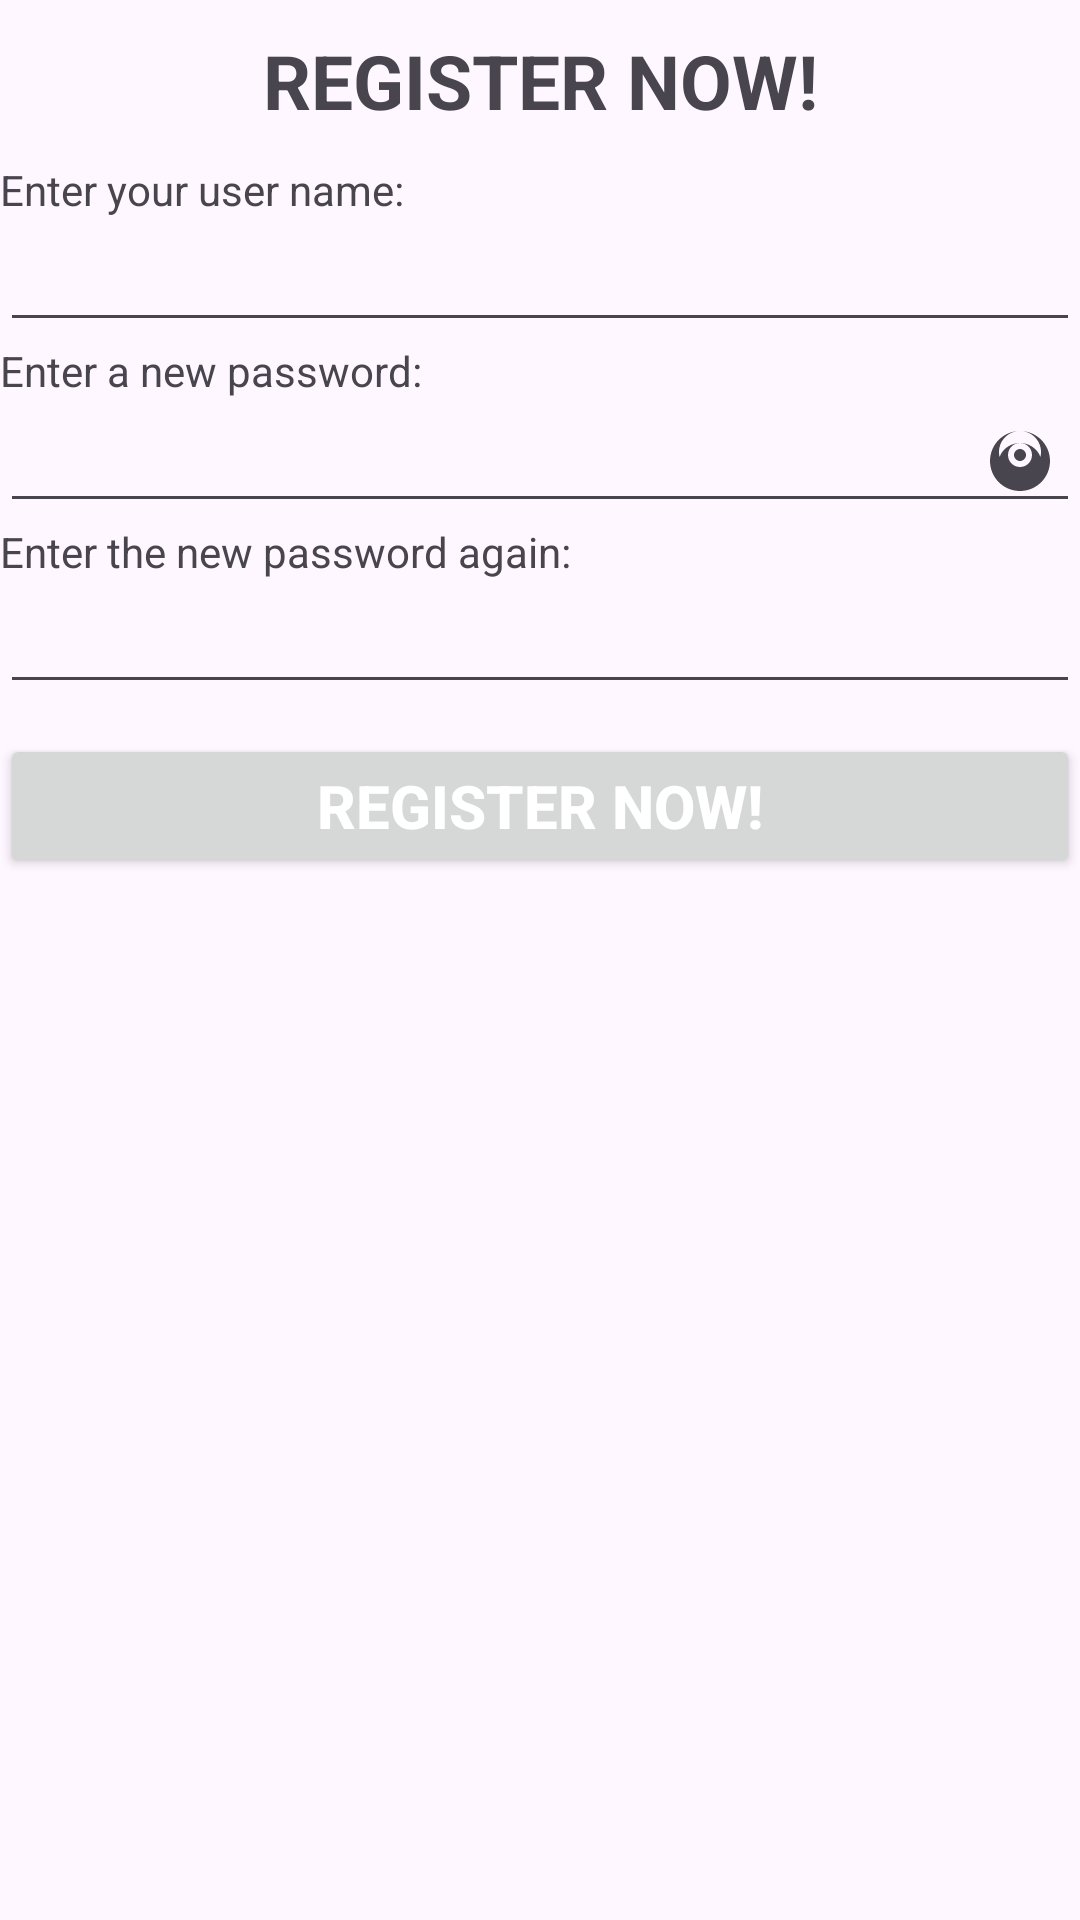

Where icons sit on this 1080px x 1920px app screen, as (x1, y1, x2, y2):
Toggle Password Visibility: (990, 431, 1050, 491)
